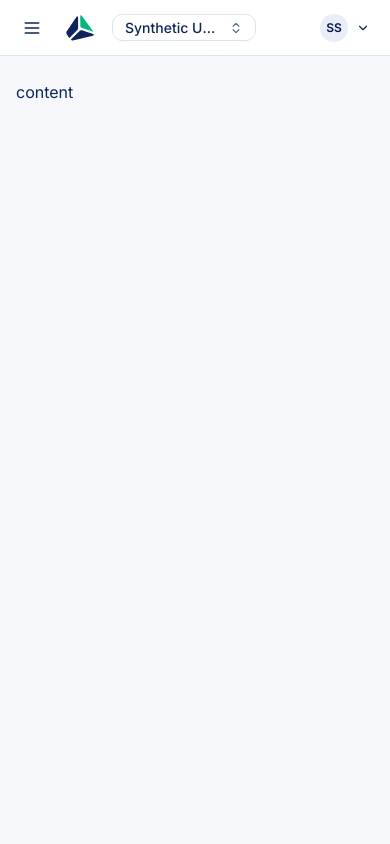
Test: campus navigation is filtered by server permissions › CampusShell renders only permitted items, and the mobile drawer lists the same items
Click the button named "Open navigation" at (32, 28), box [12,8,52,48]
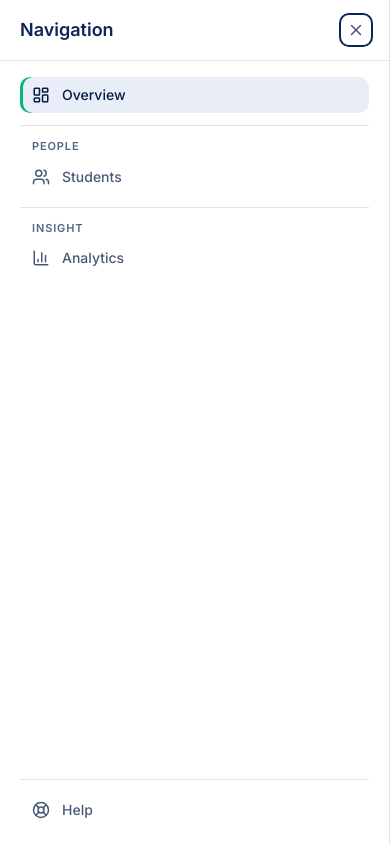
Expected: the links read "Overview", "Students", "Analytics", "Help", in this order, [20,77,369,113]; [32,168,122,186]; [32,249,124,267]; [32,801,93,819]
